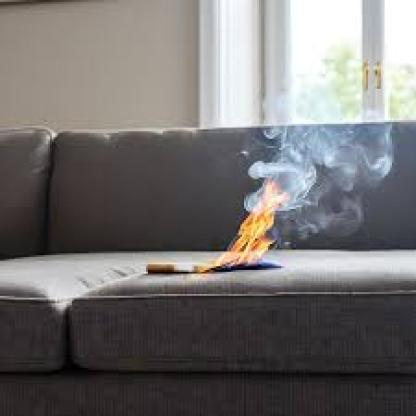fire: (195, 193, 279, 276)
smoke: (241, 39, 399, 237)
